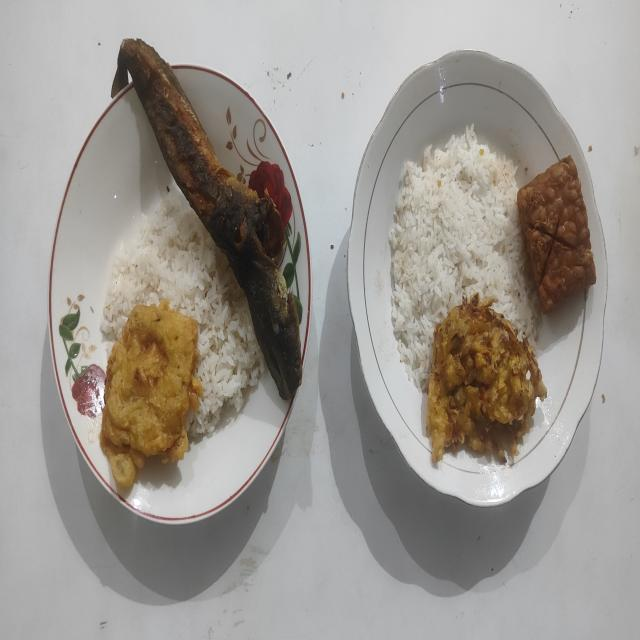nasi_putih: (100, 195, 264, 436), (389, 127, 538, 390)
tempe_goreng: (516, 156, 596, 312)
